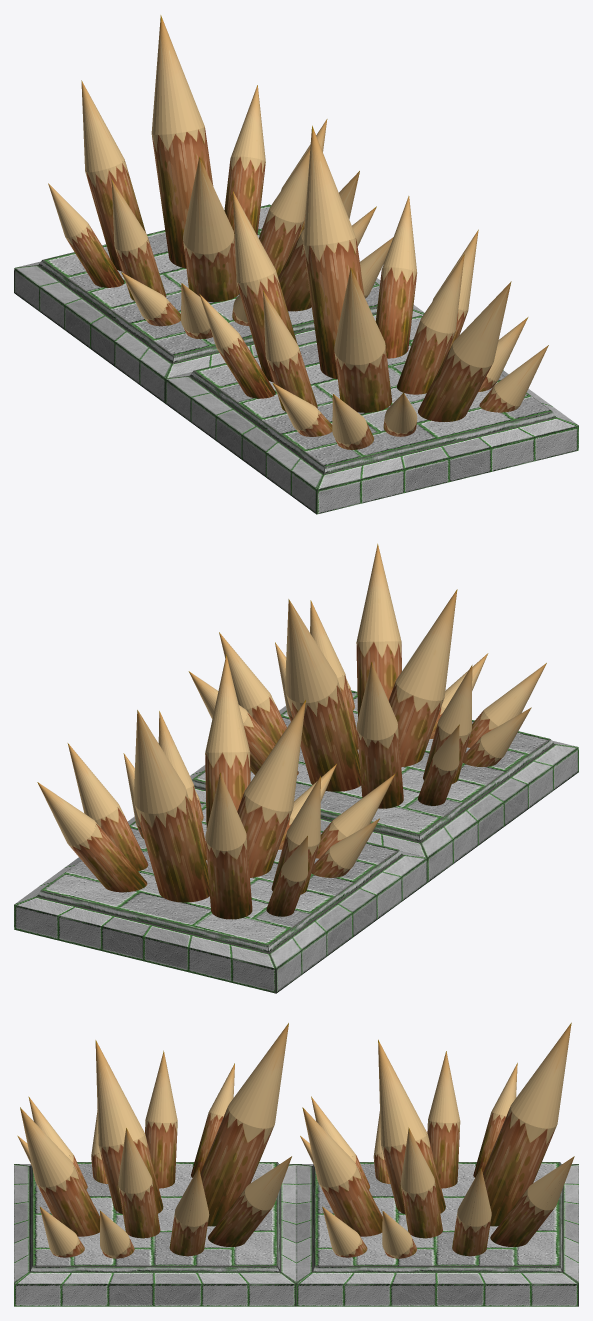
Rendered from WoodenSpikes.fbx.
3 renders of one model, top to bottom at view 1: azimuth 30°, elevation 25°; view 2: azimuth 150°, elevation 25°; view 3: azimuth 270°, elevation 25°, orthographic. The views are drawn at different scales.
Visible parts, largest first — view 1: WoodenSpikes; view 2: WoodenSpikes; view 3: WoodenSpikes.
Boxes of the visible parts, <box> form: WoodenSpikes: <box>14,15,578,514</box>; WoodenSpikes: <box>14,543,578,993</box>; WoodenSpikes: <box>14,1022,578,1306</box>.
Bounding box in the file's own units: 200 × 180 × 400.
